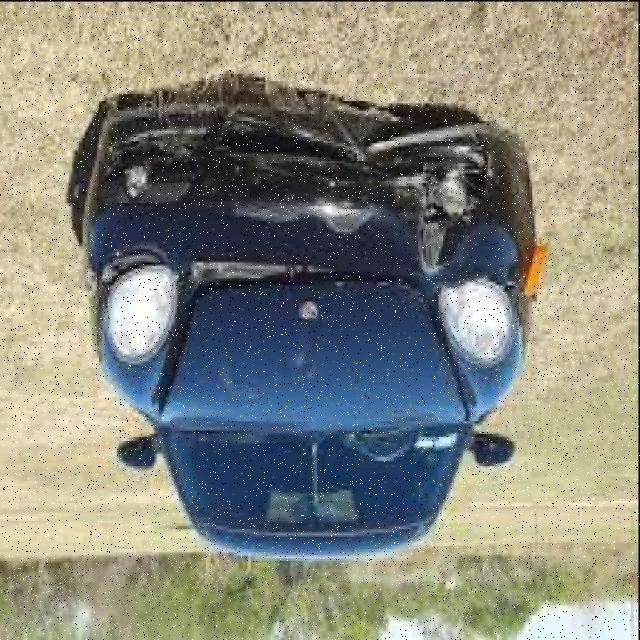damage: (83, 97, 548, 419)
